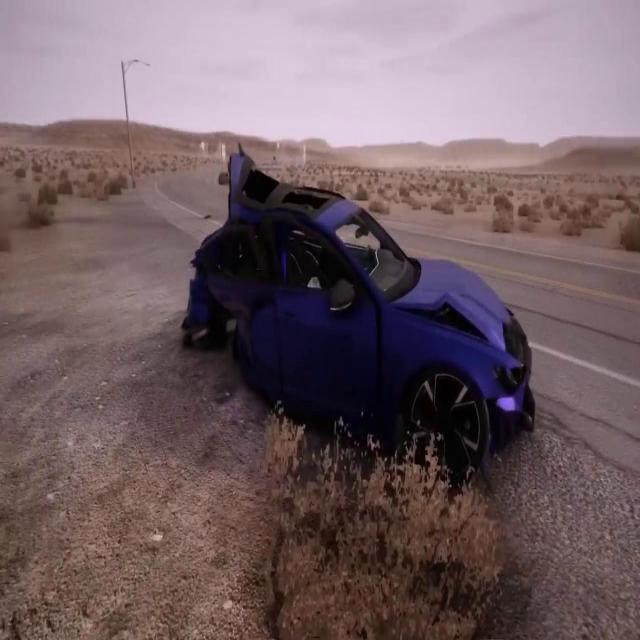severe: (176, 152, 540, 480)
